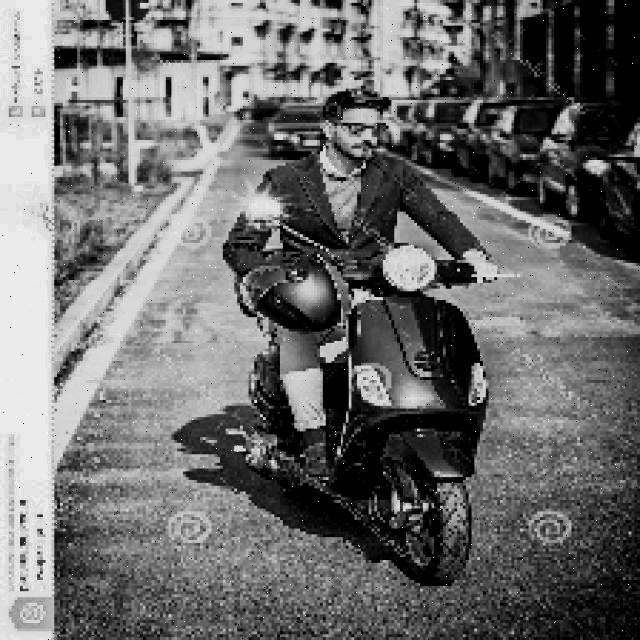Bike: (254, 247, 502, 585)
